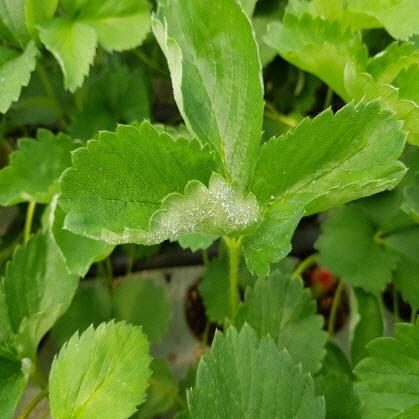Powdery Mildew Leaf: (237, 92, 410, 281), (56, 119, 266, 245), (150, 0, 265, 187)
